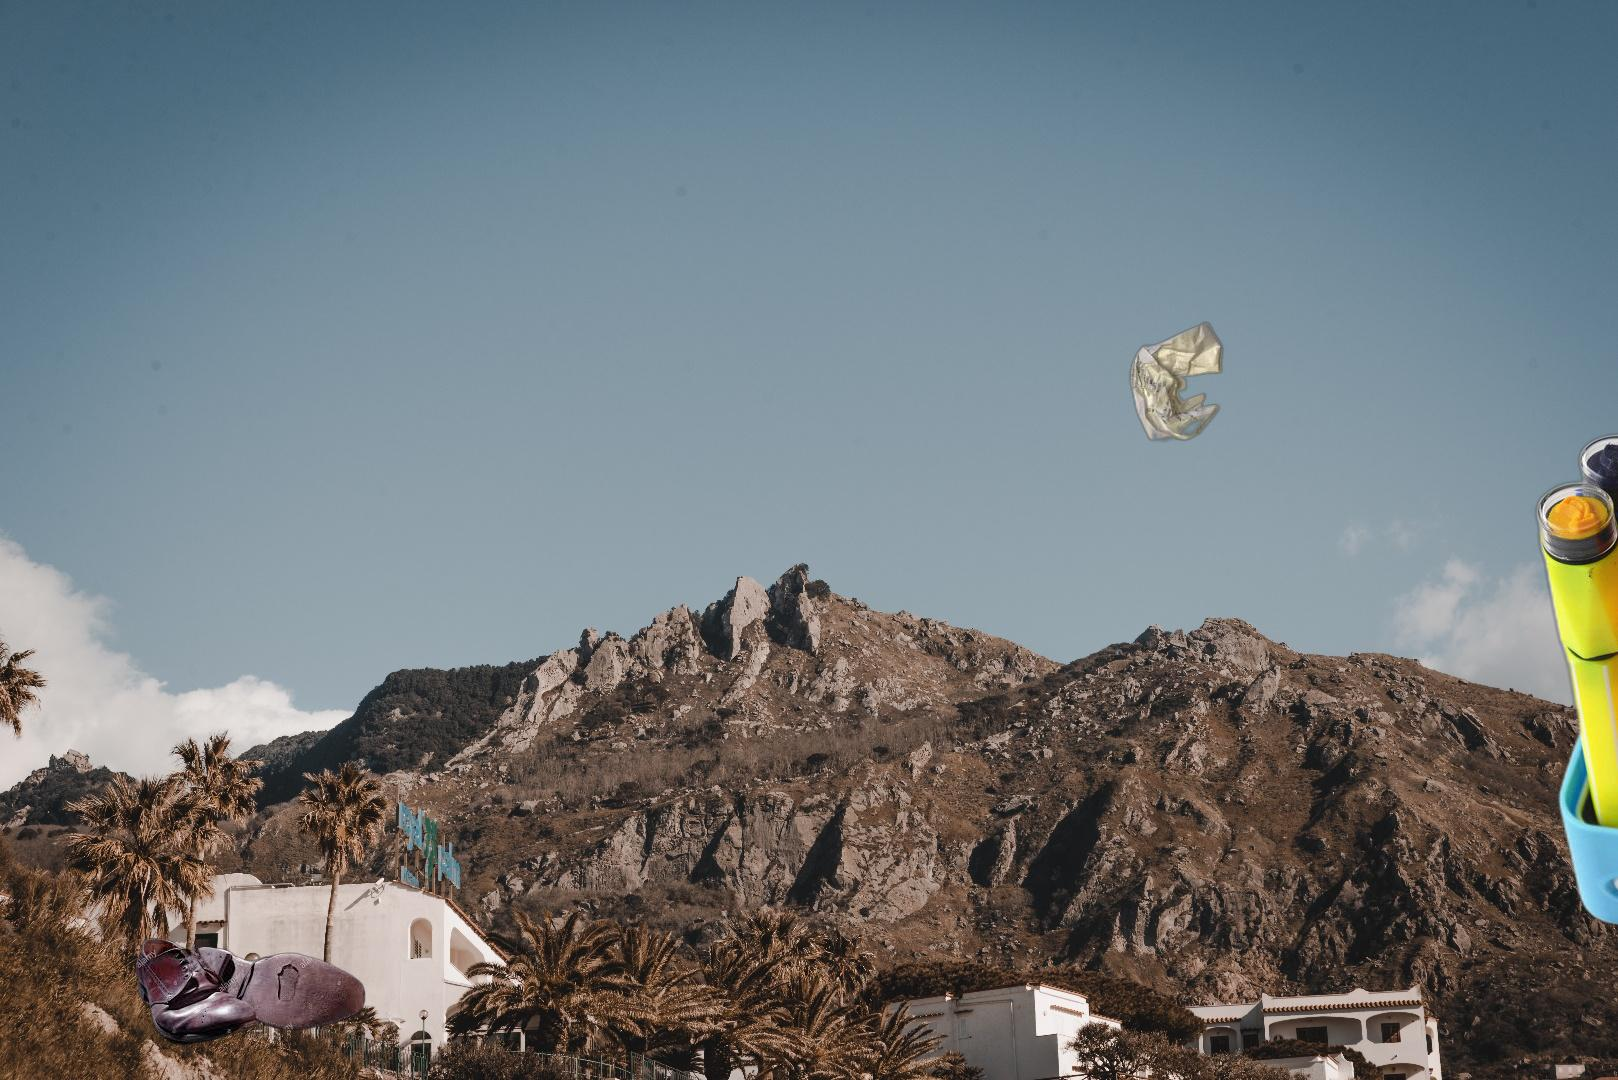paper: (1126, 318, 1226, 444)
penholder: (1529, 428, 1618, 972)
shoes: (131, 935, 367, 1047)
